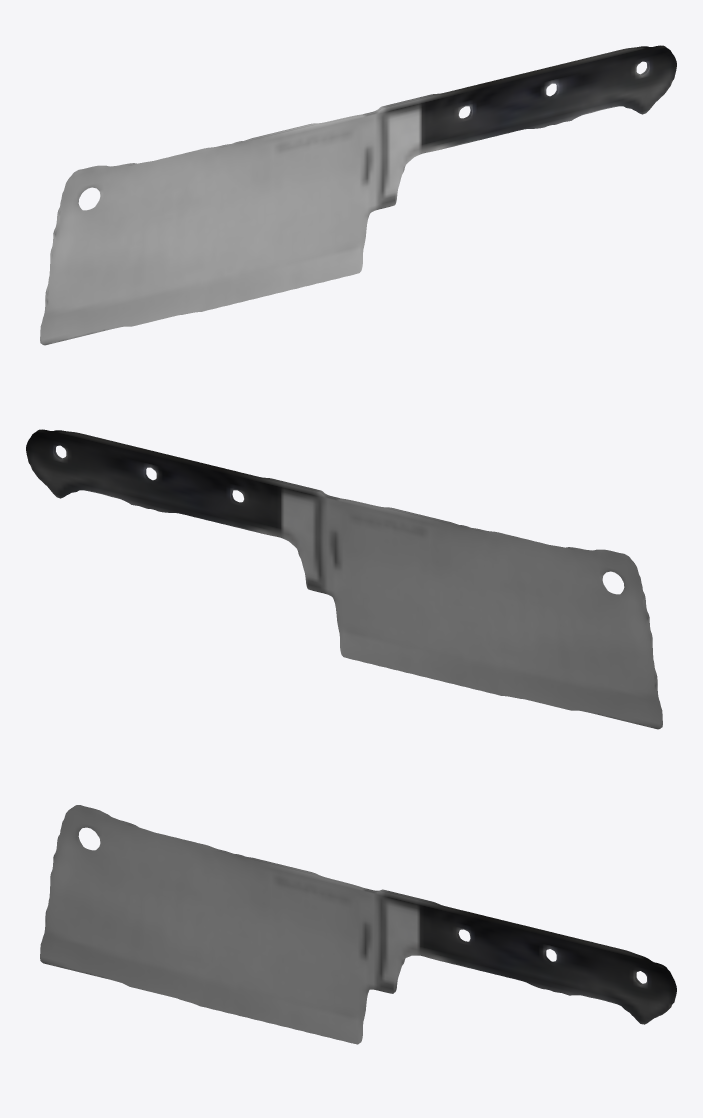
The model's file is billboard_butcher_knife.FBX.
3 renders of one model, top to bottom at view 1: azimuth 30°, elevation 25°; view 2: azimuth 150°, elevation 25°; view 3: azimuth 330°, elevation 25°, orthographic.
Visible parts, largest first — view 1: butcher_knife; view 2: butcher_knife; view 3: butcher_knife.
Part boxes in pixels (box(x1,y1,x2,y2)): butcher_knife: box(40, 45, 676, 345); butcher_knife: box(26, 429, 662, 729); butcher_knife: box(40, 805, 676, 1044).
Bounding box in the file's own units: 23.64 × 6.38 × 0.0997.
